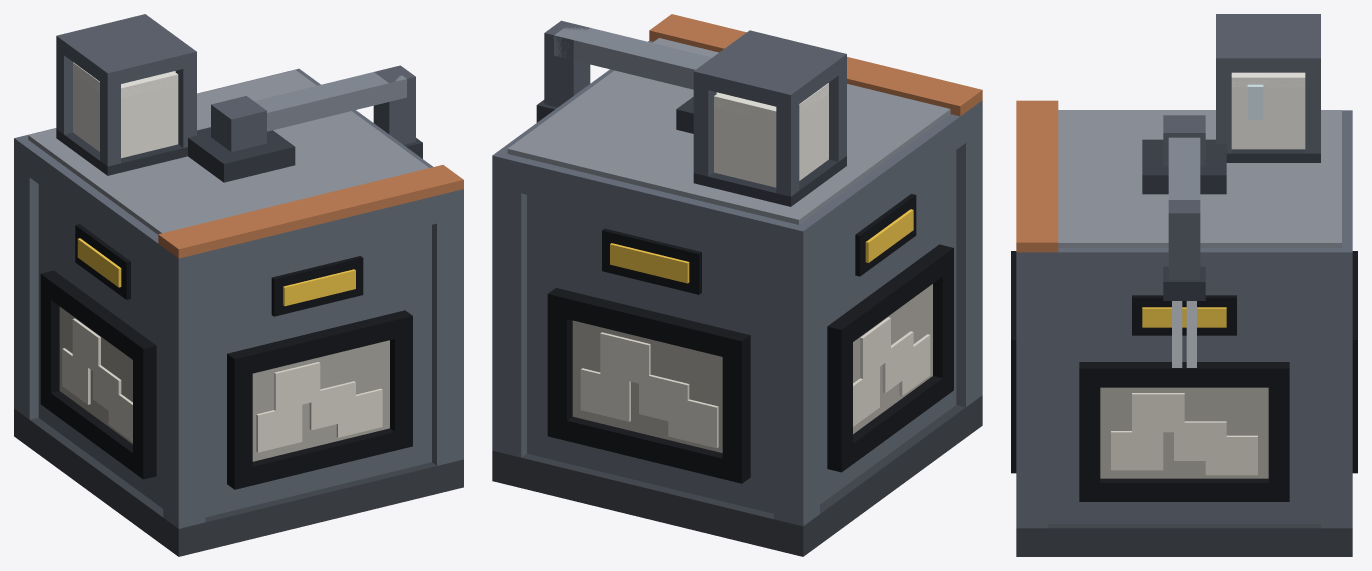
The model's file is shearer.glb.
The picture shows the model from 3 angles, left to right: view 1: azimuth 30°, elevation 25°; view 2: azimuth 150°, elevation 25°; view 3: azimuth 270°, elevation 25°; orthographic projection. The views are drawn at different scales.
Parts seen in each view (by area): view 1: body.049, arm, tier.024, level_milk; view 2: body.049, arm, level_milk, tier.024; view 3: body.049, arm, tier.024, level_milk, blade_a, blade_b.
Boxes of the visible parts, left/top/right/bottom form: body.049: left=14, top=14, right=463, bottom=556; arm: left=211, top=65, right=422, bottom=158; tier.024: left=158, top=165, right=463, bottom=258; level_milk: left=73, top=62, right=178, bottom=158; body.049: left=492, top=30, right=982, bottom=556; arm: left=536, top=20, right=712, bottom=122; level_milk: left=714, top=83, right=828, bottom=187; tier.024: left=649, top=14, right=982, bottom=116; body.049: left=1011, top=14, right=1357, bottom=556; arm: left=1163, top=115, right=1205, bottom=300; tier.024: left=1016, top=100, right=1058, bottom=252; level_milk: left=1231, top=72, right=1305, bottom=149; blade_a: left=1172, top=301, right=1182, bottom=367; blade_b: left=1186, top=301, right=1196, bottom=367.
Size of the model in its own units: 1.13 by 1.36 by 1.03.
